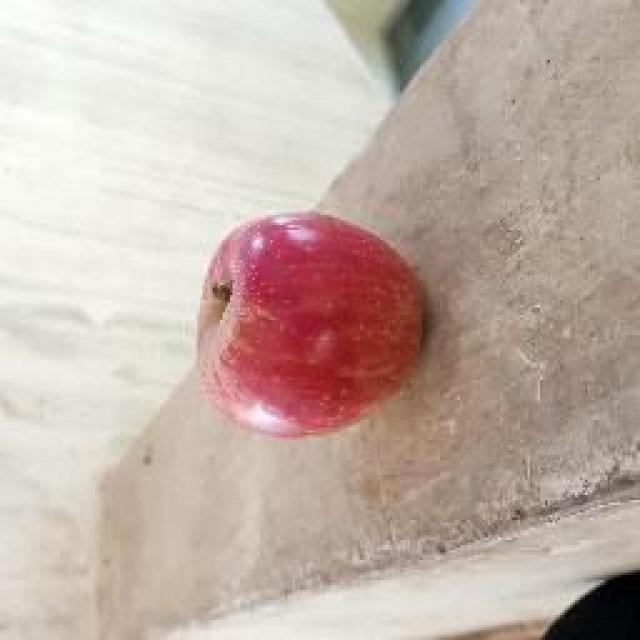Good_Apple: (198, 210, 425, 442)
